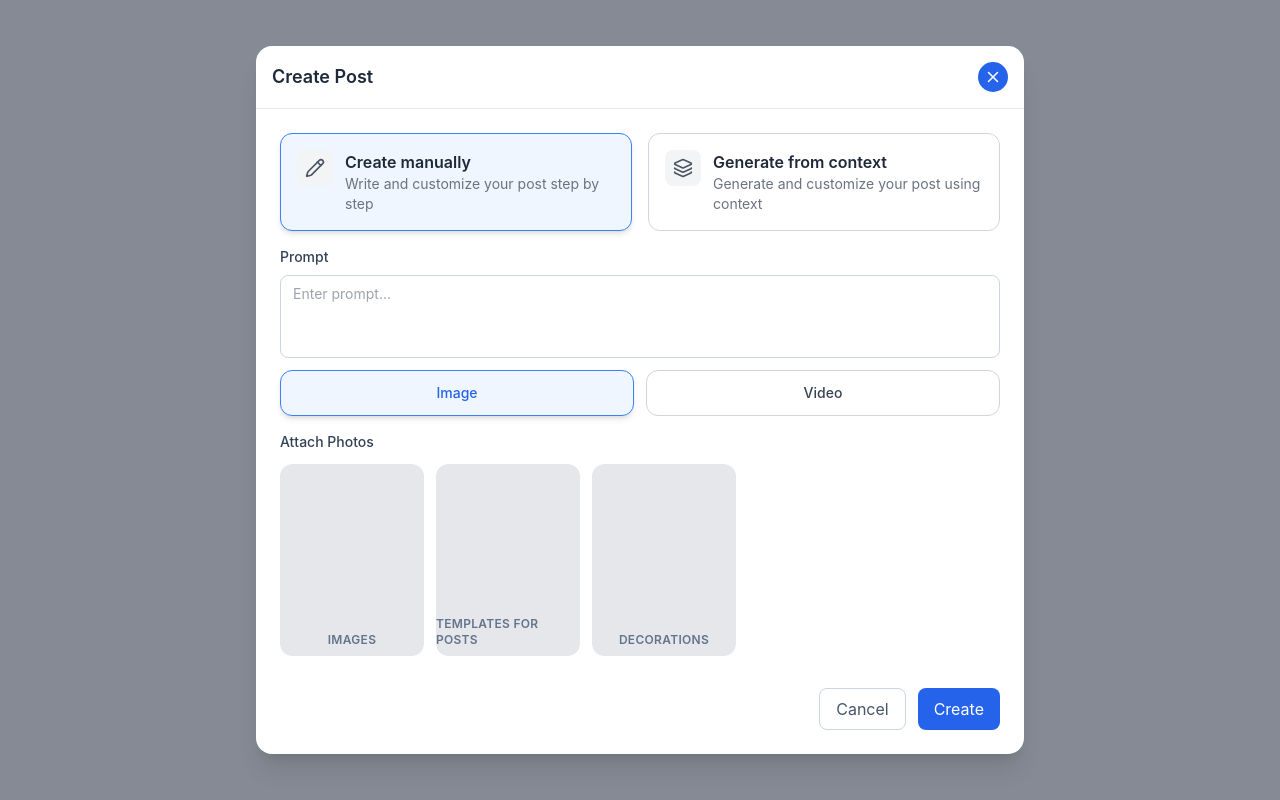
Test: CreateCreativeDlg — general rendering › hides mediaType radio group when "Generate from context" mode is selected
Click the visible label text to switch to context mode
Step 1. Click the text "Generate from context" → {"x": 800, "y": 162}, box [713,152,887,172]
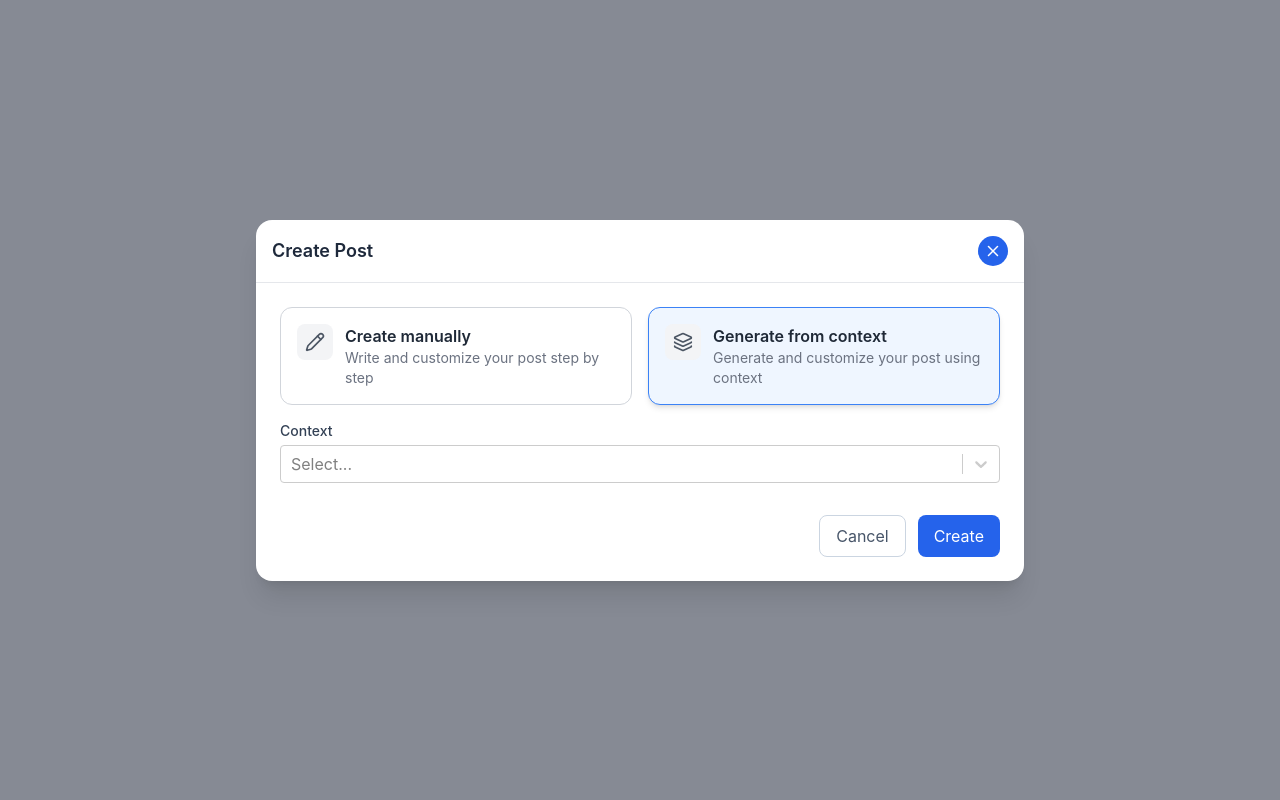
Now the text "Image" is gone
Now the text "Video" is gone
